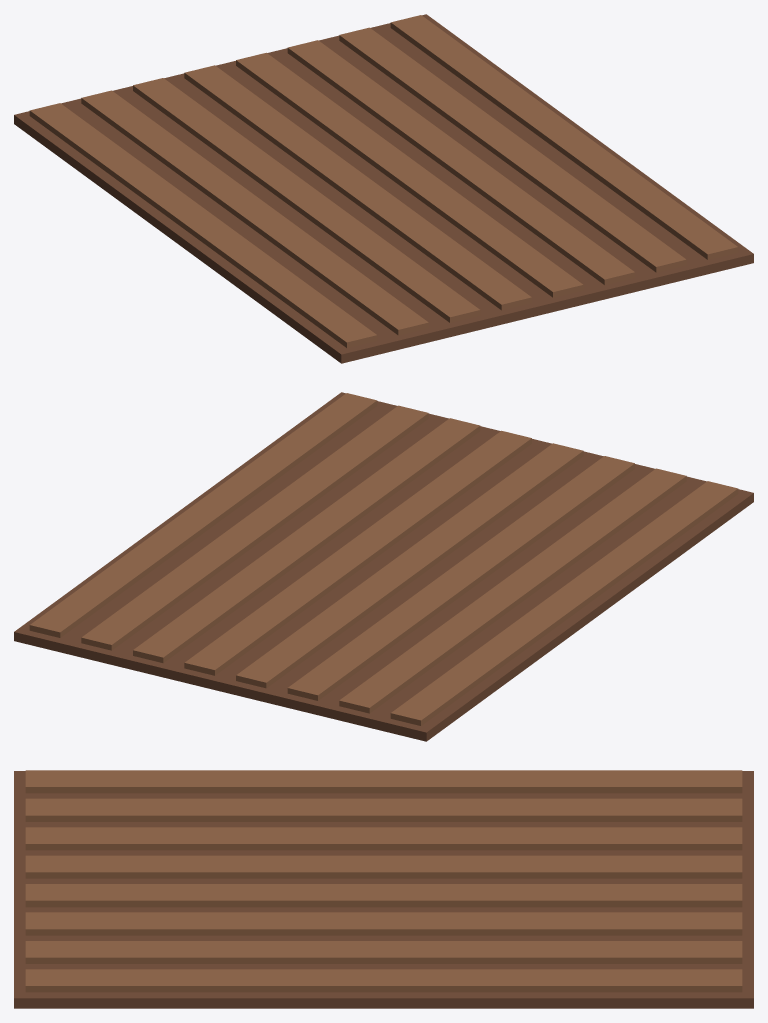
File: field_furrows.glb
The picture shows the model from 3 angles, top to bottom: view 1: azimuth 30°, elevation 25°; view 2: azimuth 150°, elevation 25°; view 3: azimuth 270°, elevation 25°; orthographic projection. The views are drawn at different scales.
Visible parts, largest first — view 1: field_furrows; view 2: field_furrows; view 3: field_furrows.
Part boxes in pixels (x1,y1,x2,y2): field_furrows: (14, 14, 753, 363); field_furrows: (14, 392, 753, 741); field_furrows: (14, 770, 753, 1008).
Size of the model in its own units: 8 by 0.275 by 11.
